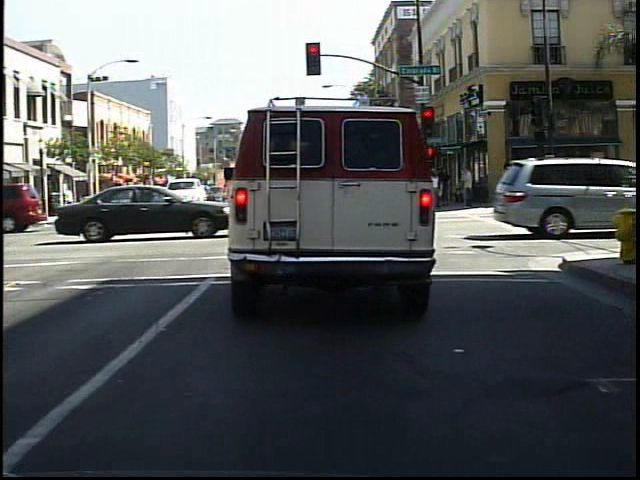person: (533, 158, 553, 211), (511, 166, 531, 210)
